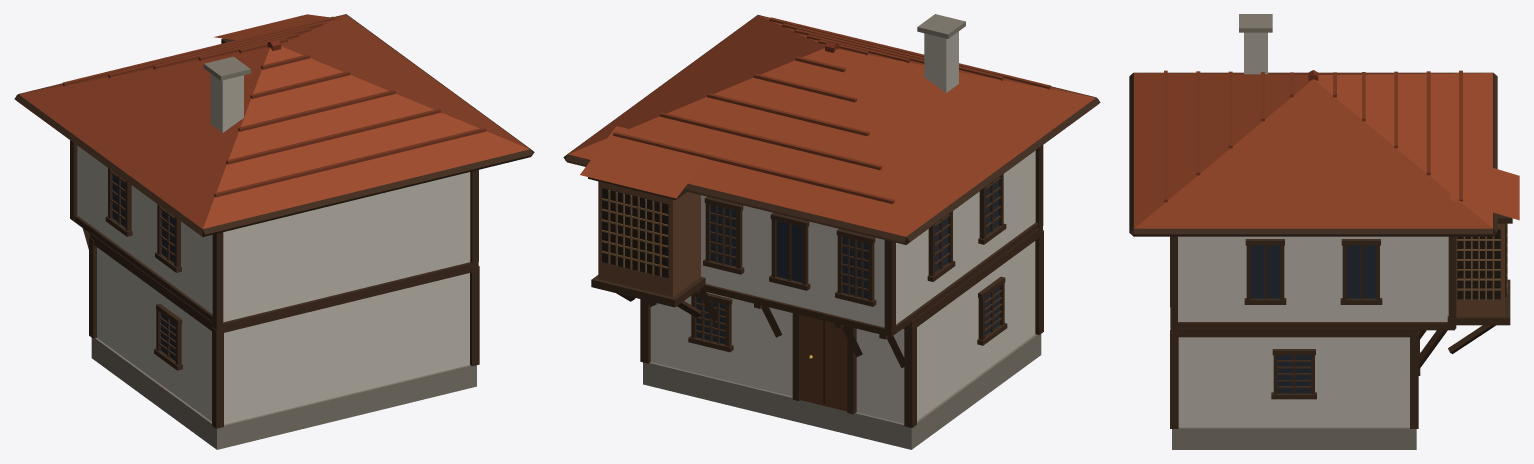
The picture shows the model from 3 angles, left to right: view 1: azimuth 30°, elevation 25°; view 2: azimuth 150°, elevation 25°; view 3: azimuth 270°, elevation 25°; orthographic projection. The views are drawn at different scales.
Parts seen in each view (by area): view 1: ev; view 2: ev; view 3: ev.
Part boxes in pixels (x1,y1,x2,y2): ev: (14,14,534,449); ev: (563,14,1100,449); ev: (1129,14,1519,449).
Bounding box in the file's own units: 7.88 × 7.6 × 8.14.
